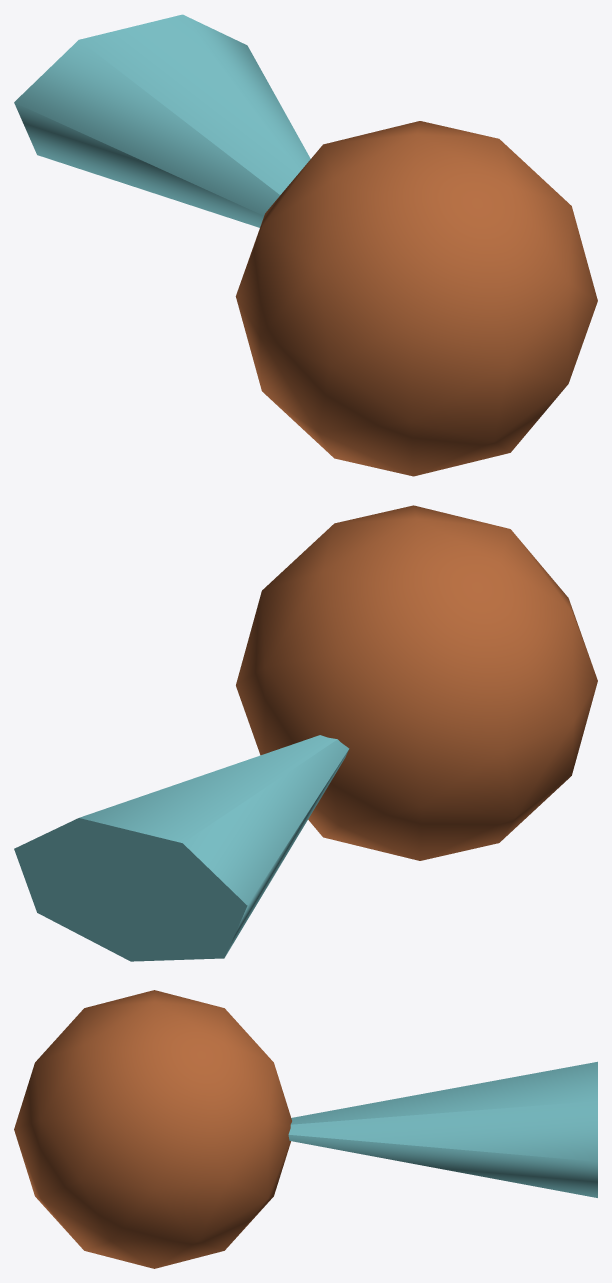
Rendered from wpn_r_02.glb.
3 renders of one model, top to bottom at view 1: azimuth 30°, elevation 25°; view 2: azimuth 150°, elevation 25°; view 3: azimuth 270°, elevation 25°, orthographic. The views are drawn at different scales.
Parts seen in each view (by area): view 1: projectile_core, projectile_trail; view 2: projectile_core, projectile_trail; view 3: projectile_core, projectile_trail.
Boxes of the visible parts, <box> form: projectile_core: <box>235,121,597,476</box>; projectile_trail: <box>14,14,310,227</box>; projectile_core: <box>236,505,597,860</box>; projectile_trail: <box>14,735,349,961</box>; projectile_core: <box>14,990,291,1268</box>; projectile_trail: <box>288,1061,597,1197</box>.
Bounding box in the file's own units: 0.38 × 0.38 × 0.79.
